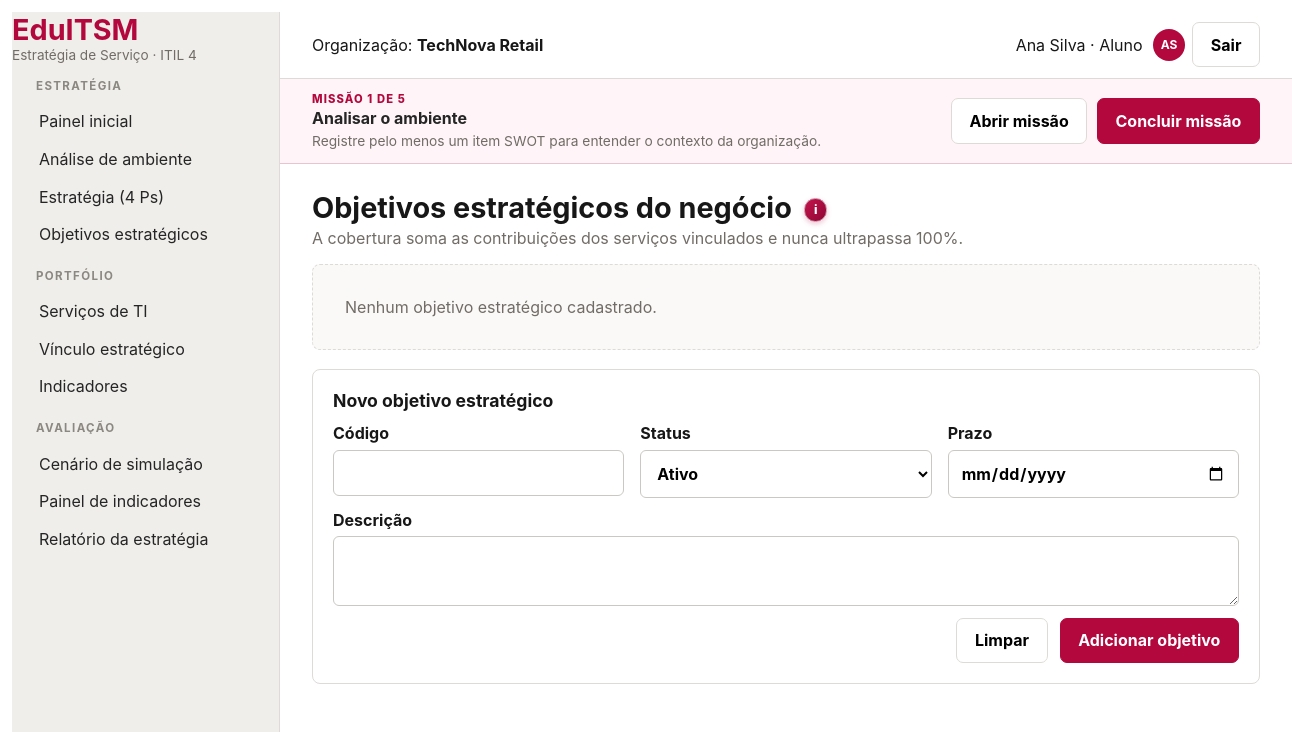
Test: T05 objetivos estratégicos › preserva os campos quando a criação falha
The width and height of the screenshot is (1292, 732).
expect the text "Nenhum objetivo estratégico cadastrado." is shown: met, box [312, 264, 1260, 350]
Step 1. Type "OE-02" into the field labelled "Código" → (479, 472), box [333, 450, 624, 496]
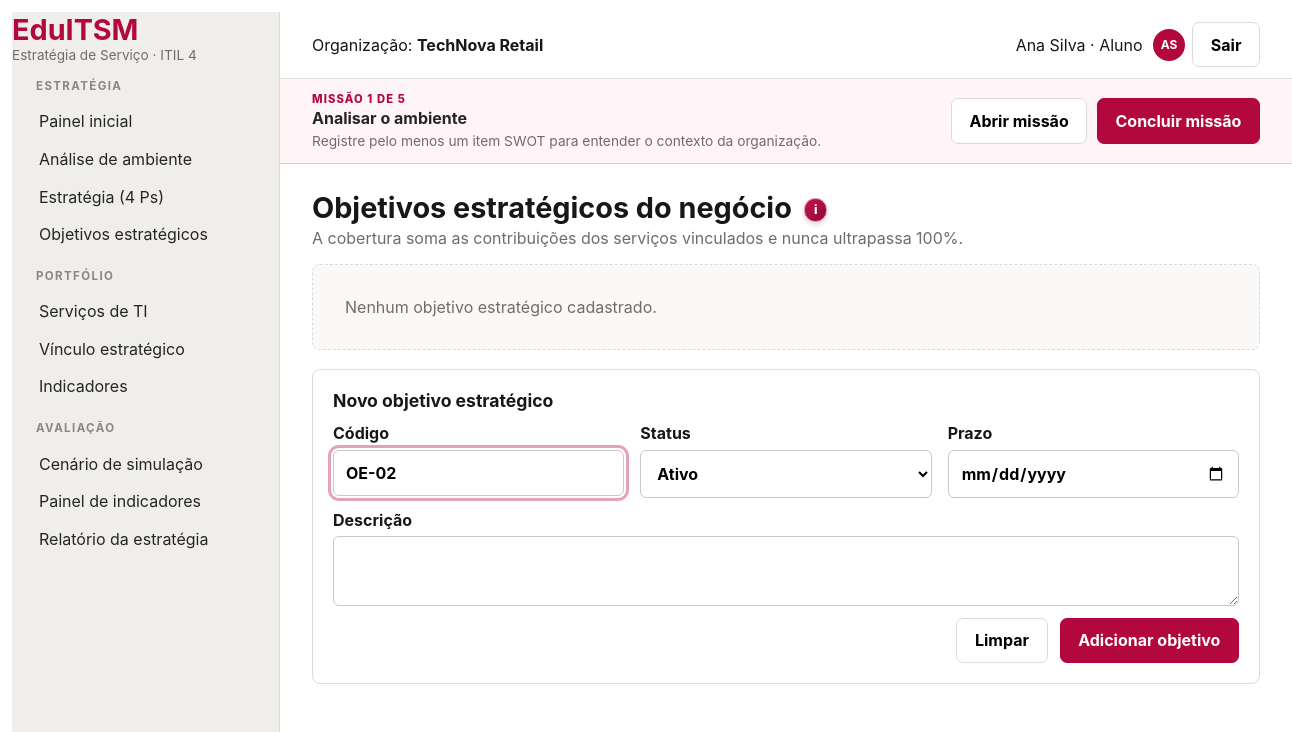
Step 2. Select "Atingido" in the dropdown labelled "Status" → (786, 474), box [640, 450, 932, 498]
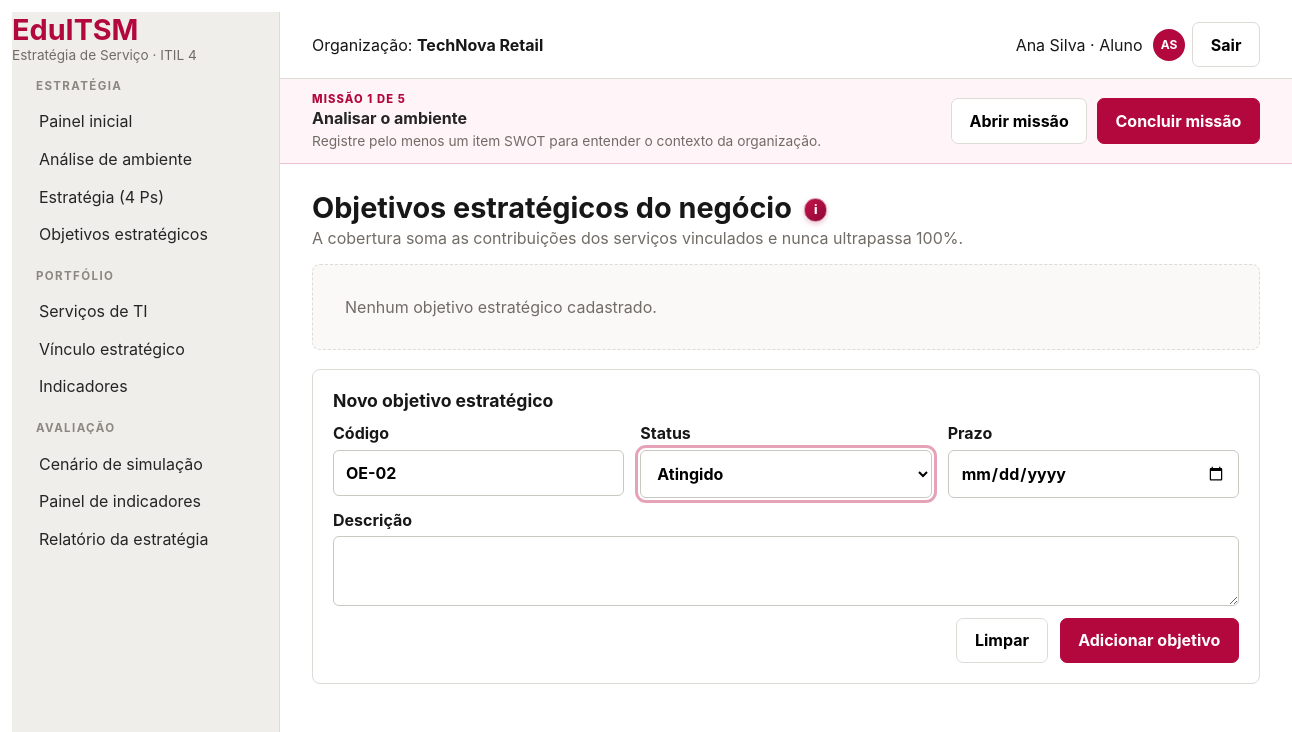
Step 3. Type "Reduzir custos" into the text box labelled "Descrição" → (786, 571), box [333, 536, 1239, 606]
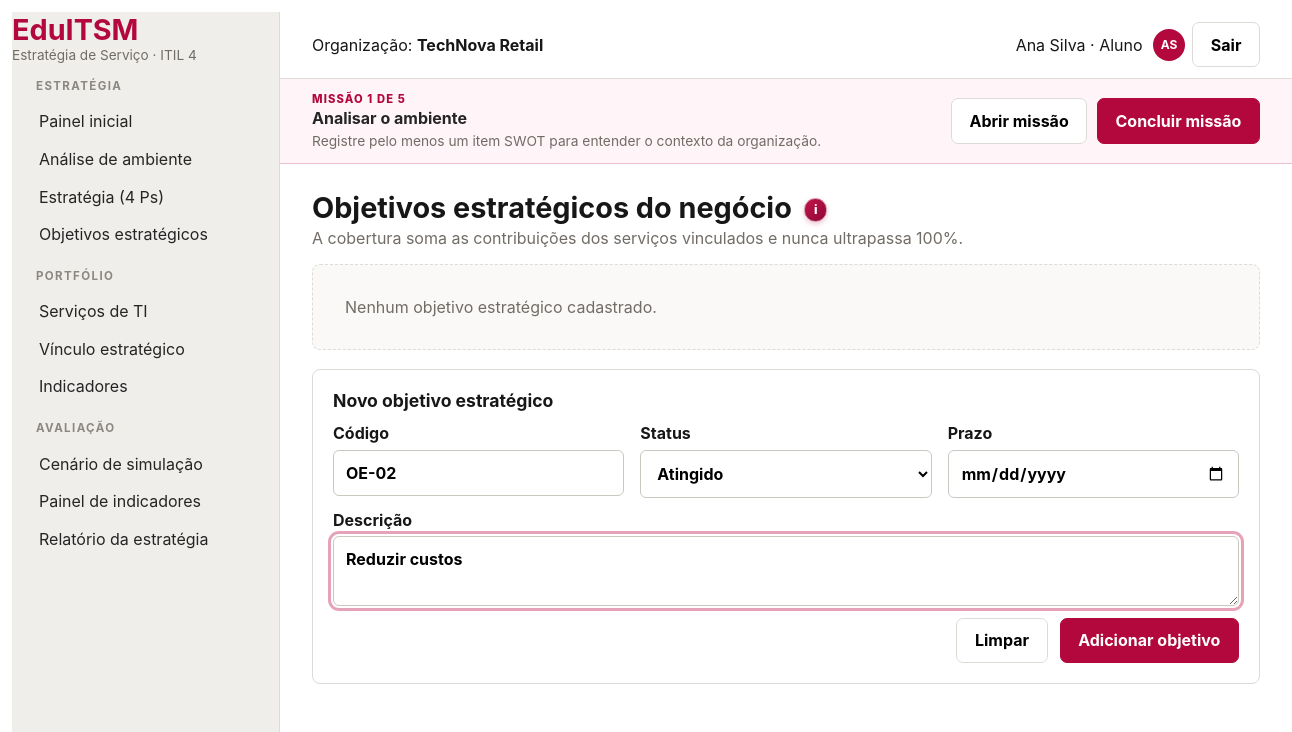
Step 4. Click the button "Adicionar objetivo" → (1149, 640), box [1060, 618, 1239, 663]
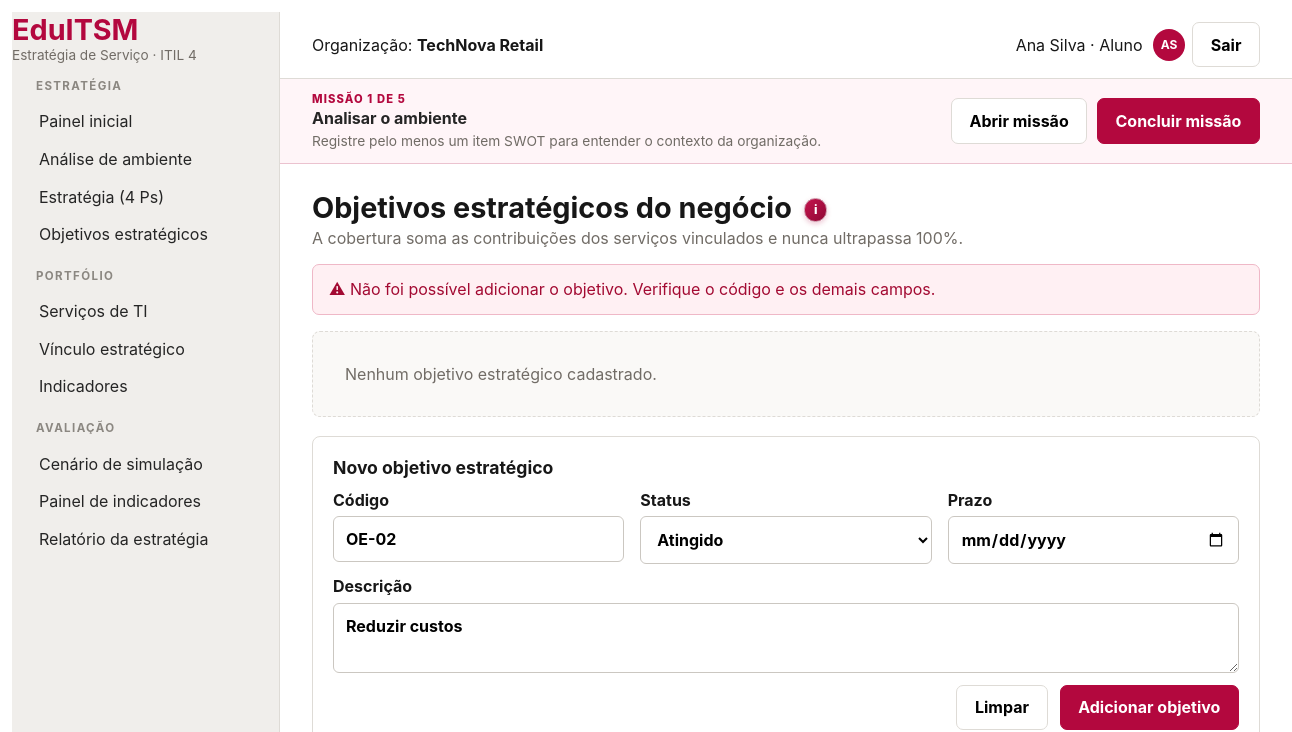
expect the message shows "Não foi possível adicionar": met, box [312, 264, 1260, 315]
